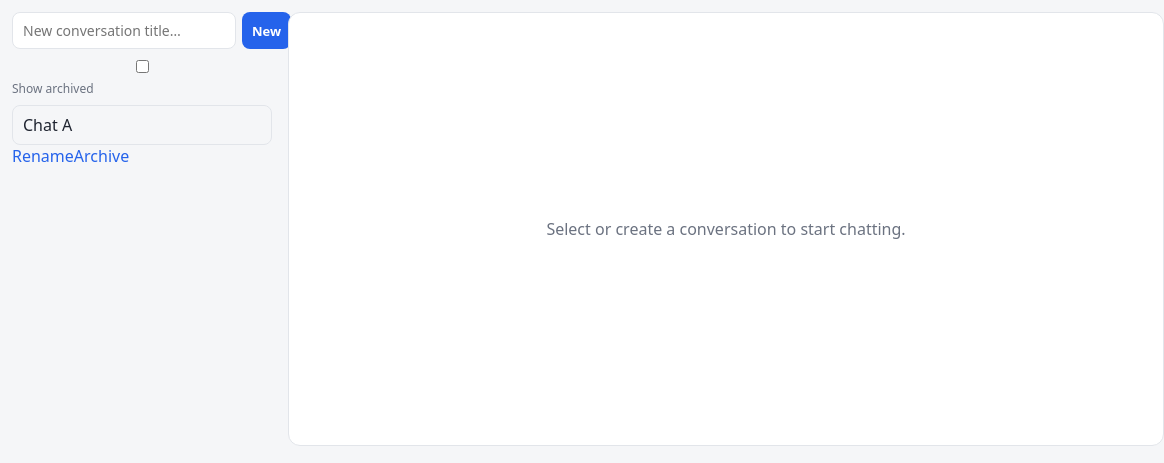
ChatConsolePage › creates a conversation with the entered title and selects it
Expected: the button "Chat A" is shown, [12, 105, 272, 145]
Type "Support" into the field with placeholder "New conversation title…" at point(124, 30), box [12, 12, 236, 49]
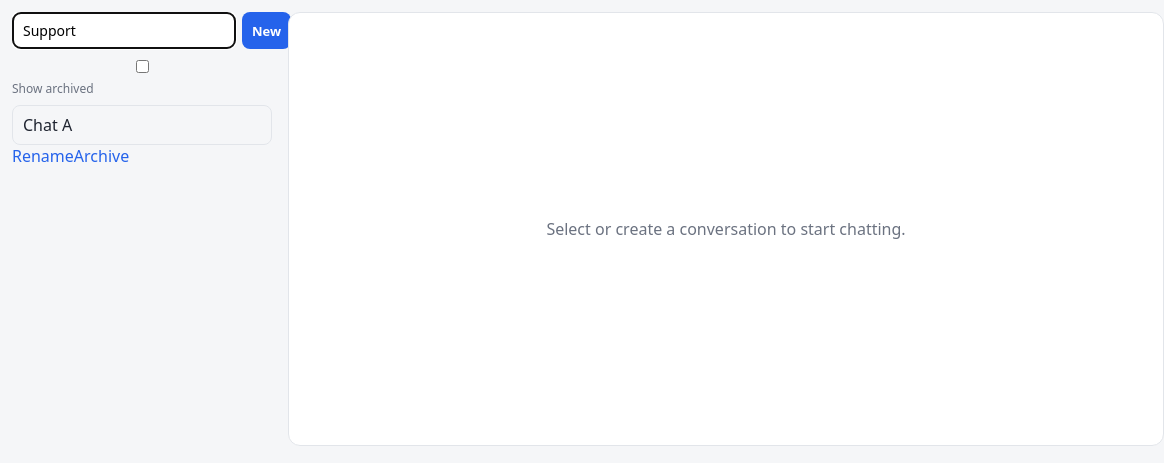
Click the button "New" at point(267, 30), box [242, 12, 291, 49]
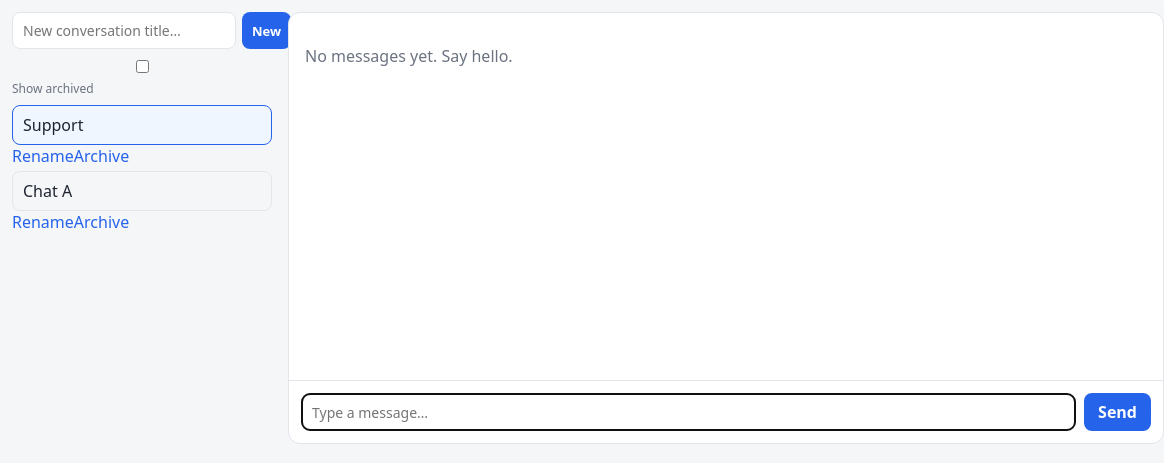
Expected: the button "Support" is shown, [12, 105, 272, 145]
